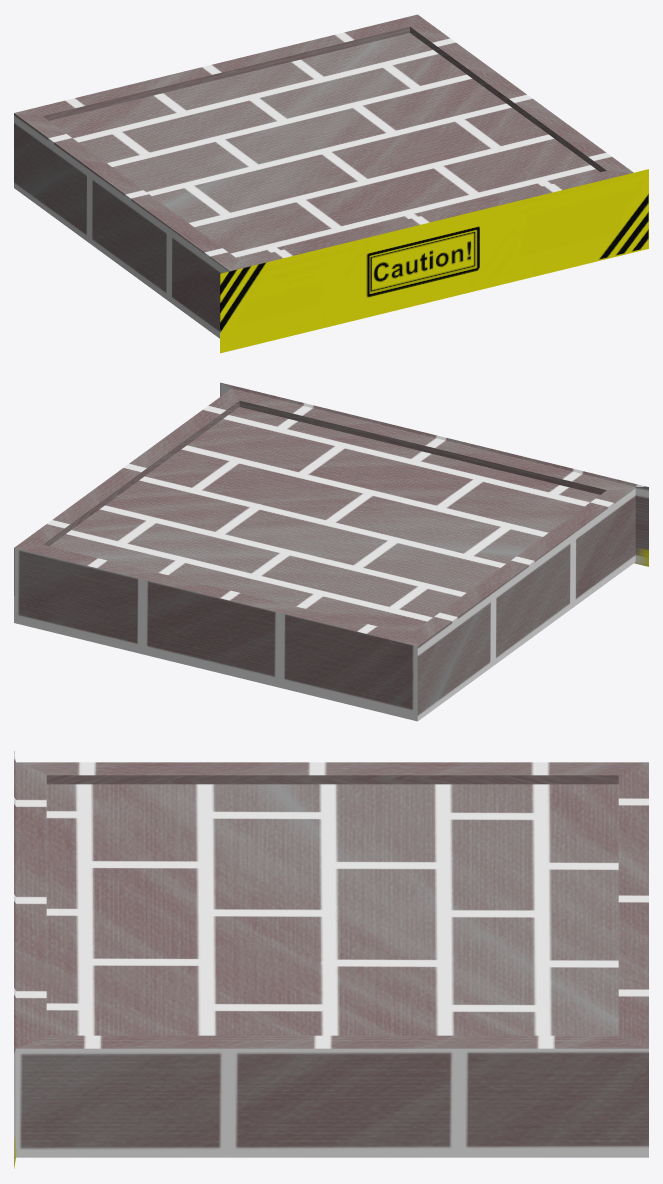
The model's file is breakable_greybrick_NEW.fbx.
3 views of the same model, one above another, from view 1: azimuth 30°, elevation 25°; view 2: azimuth 150°, elevation 25°; view 3: azimuth 270°, elevation 25° (orthographic). The views are drawn at different scales.
Visible parts, largest first — view 1: breakable; view 2: breakable; view 3: breakable.
Part boxes in pixels (<box>): breakable: <box>14,14,648,353</box>; breakable: <box>14,382,648,721</box>; breakable: <box>14,751,648,1168</box>.
Bounding box in the file's own units: 186 × 33.03 × 164.
1 material, 1 textured.
